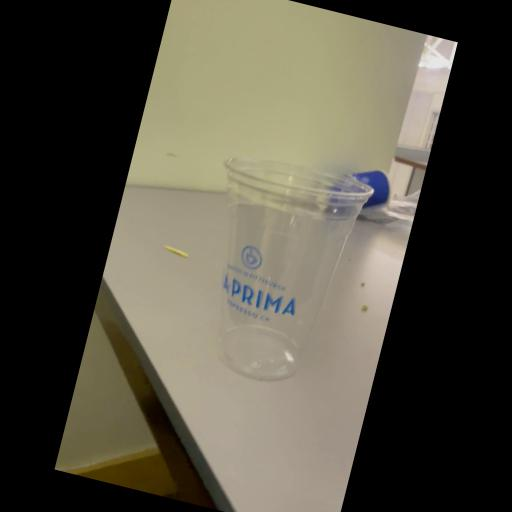lp_plastic_cup: (172, 138, 379, 398)
